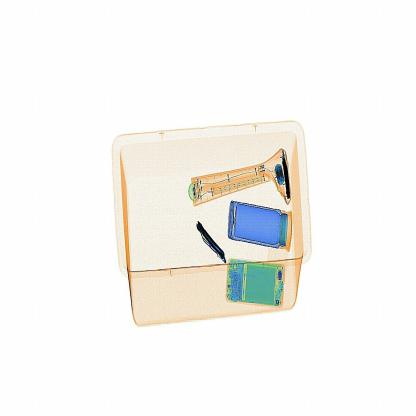knife: (192, 216, 226, 262)
